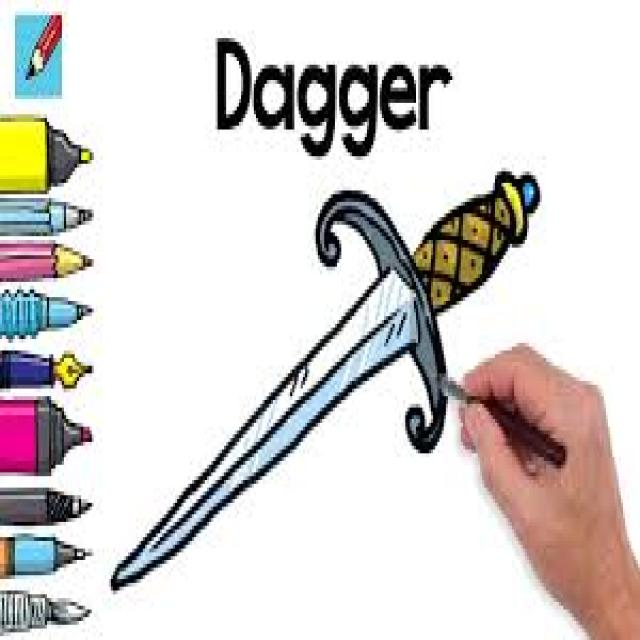Gun: (102, 154, 568, 603)
